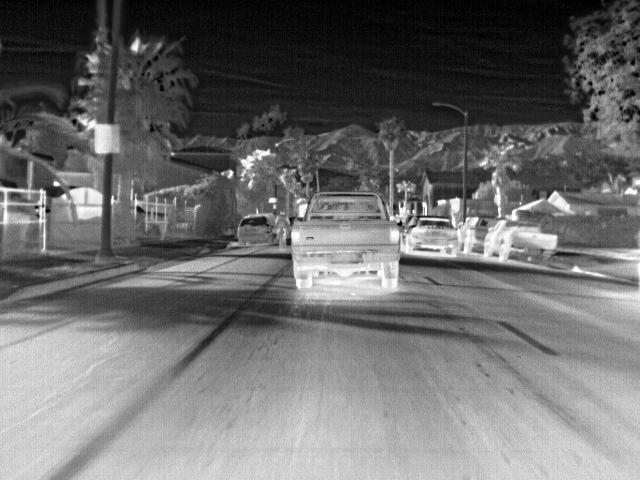car: (290, 190, 404, 290), (483, 220, 559, 271), (404, 216, 460, 258), (461, 212, 499, 255), (237, 212, 275, 247)
person: (278, 211, 290, 230)
